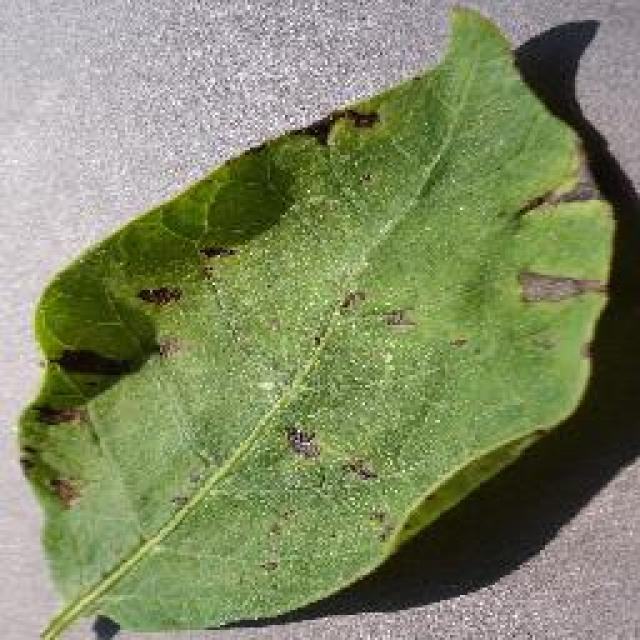early_blight: (12, 2, 618, 638)
